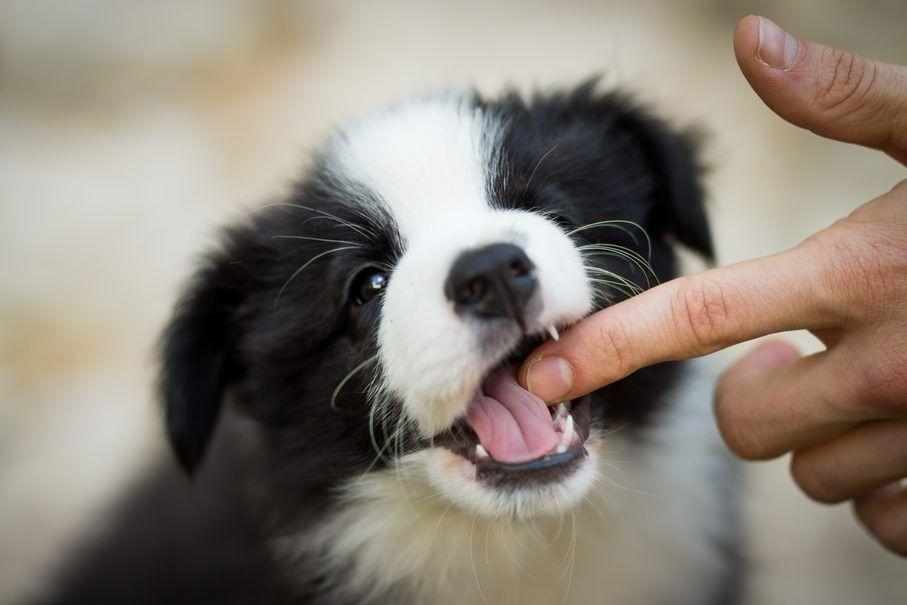puppy-dog: (26, 66, 758, 605)
